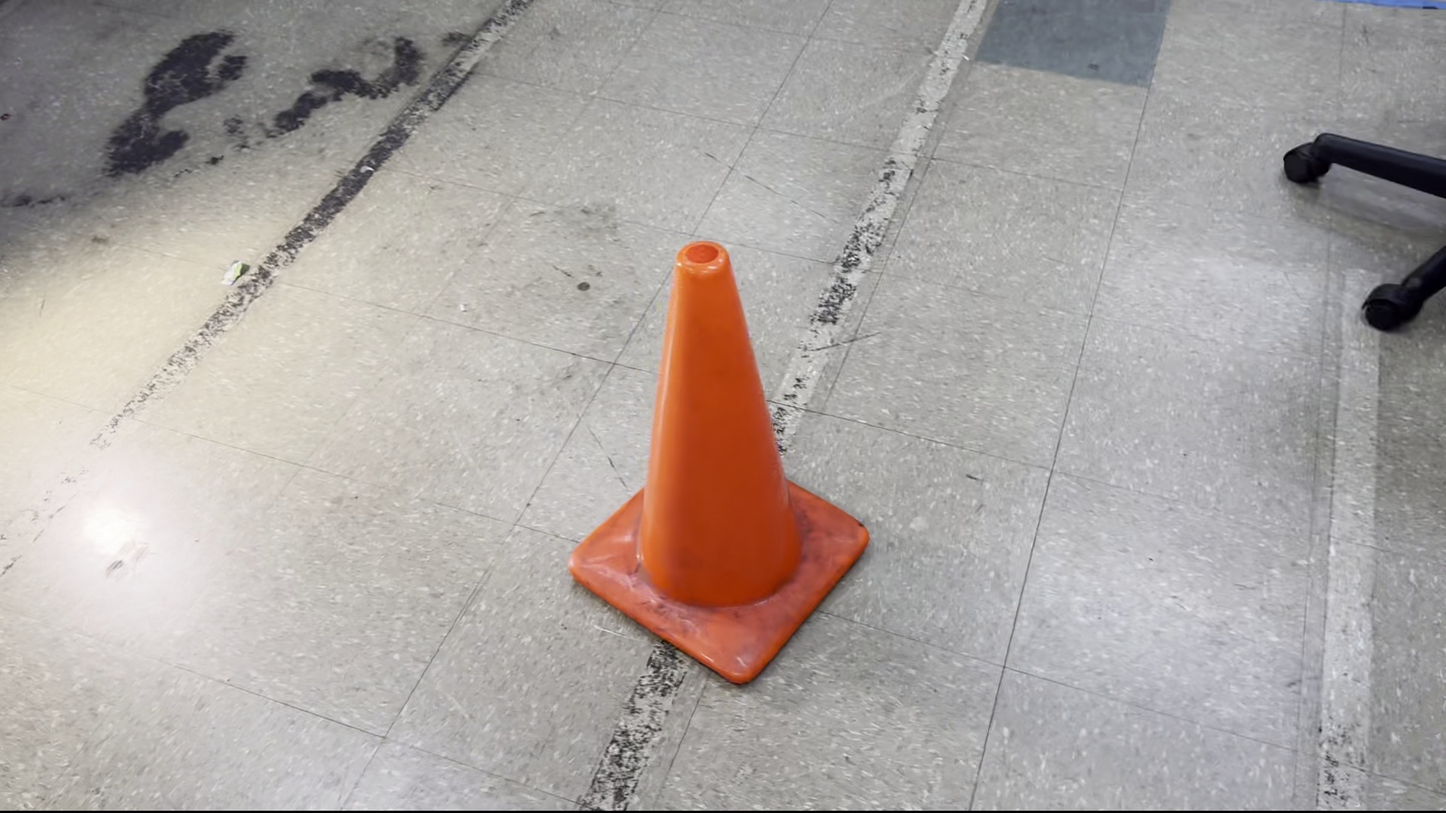traffic_cone: (567, 239, 870, 686)
